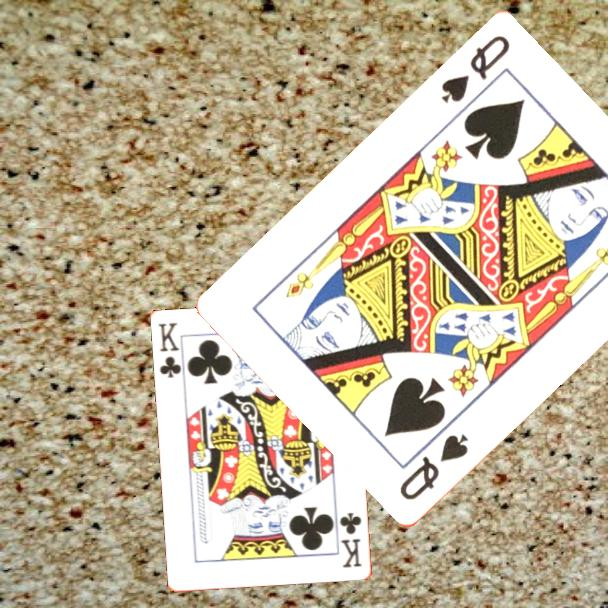c13: (336, 509, 365, 571), (155, 319, 184, 381)
s12: (437, 32, 513, 107), (396, 430, 472, 504)
